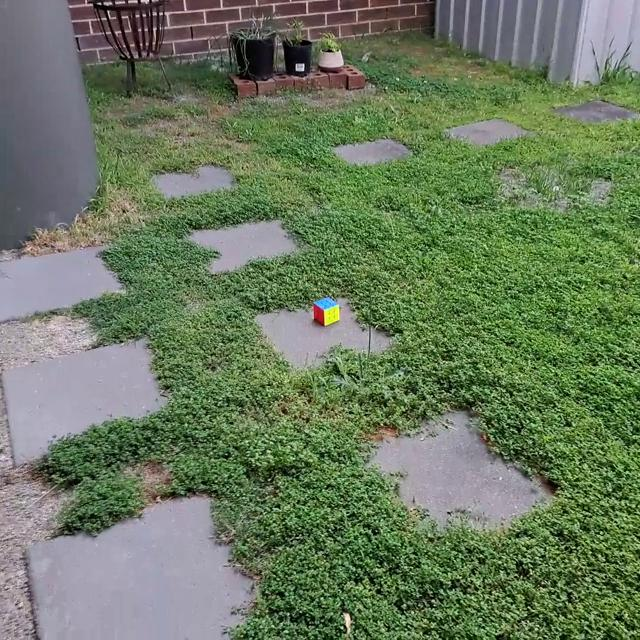rubix_cube: (311, 297, 342, 327)
